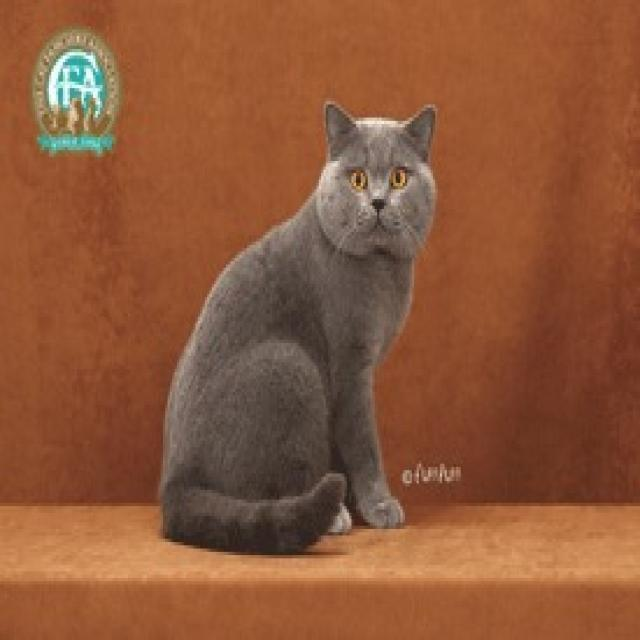British_Shorthair: (313, 97, 438, 283)
